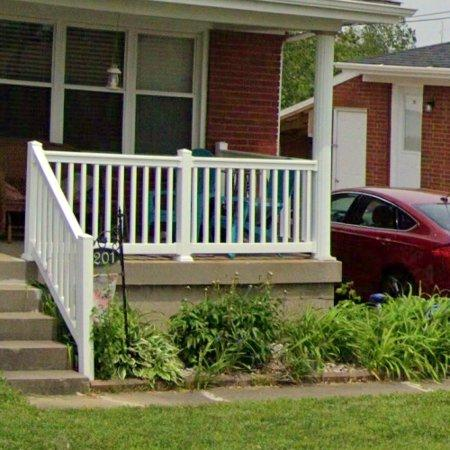stairs: (0, 253, 88, 395), (0, 313, 54, 341)
